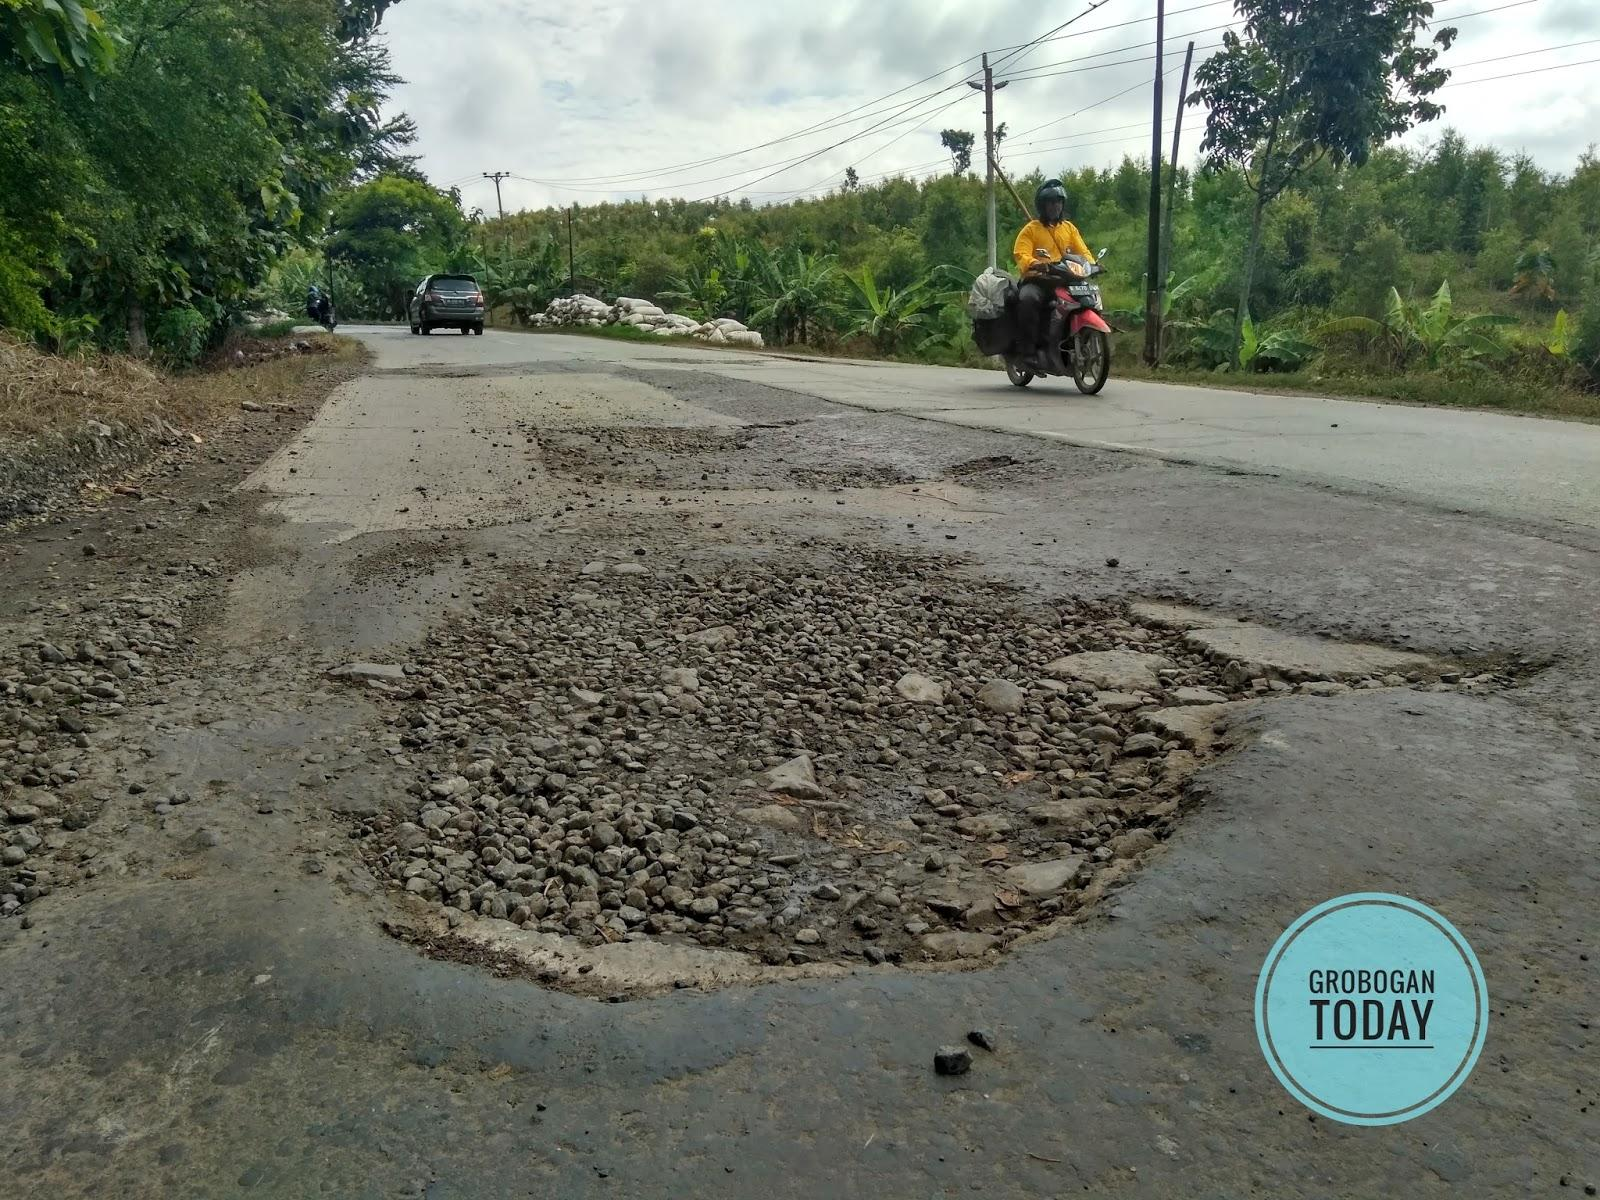Pothole: (291, 321, 1587, 1029)
